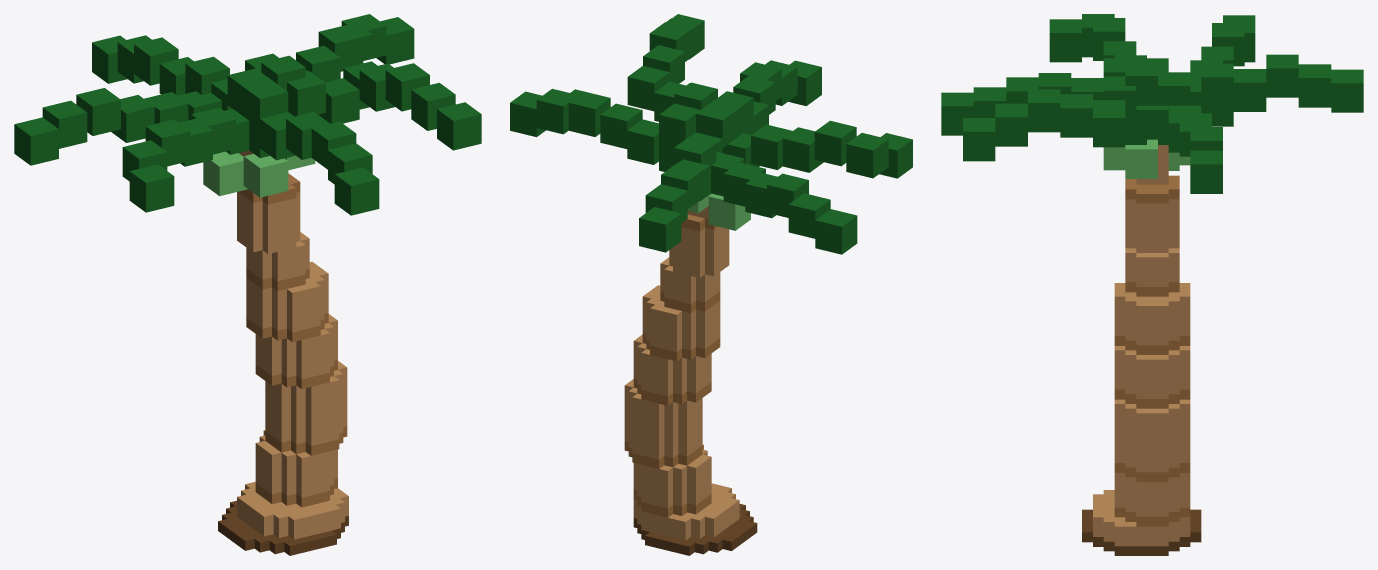
File: 2_0 coco.obj
The picture shows the model from 3 angles, left to right: view 1: azimuth 30°, elevation 25°; view 2: azimuth 150°, elevation 25°; view 3: azimuth 270°, elevation 25°; orthographic projection. The views are drawn at different scales.
Bounding box in the file's own units: 3.9 × 4.8 × 3.9.
Materials: 1 (1 with a texture image).
